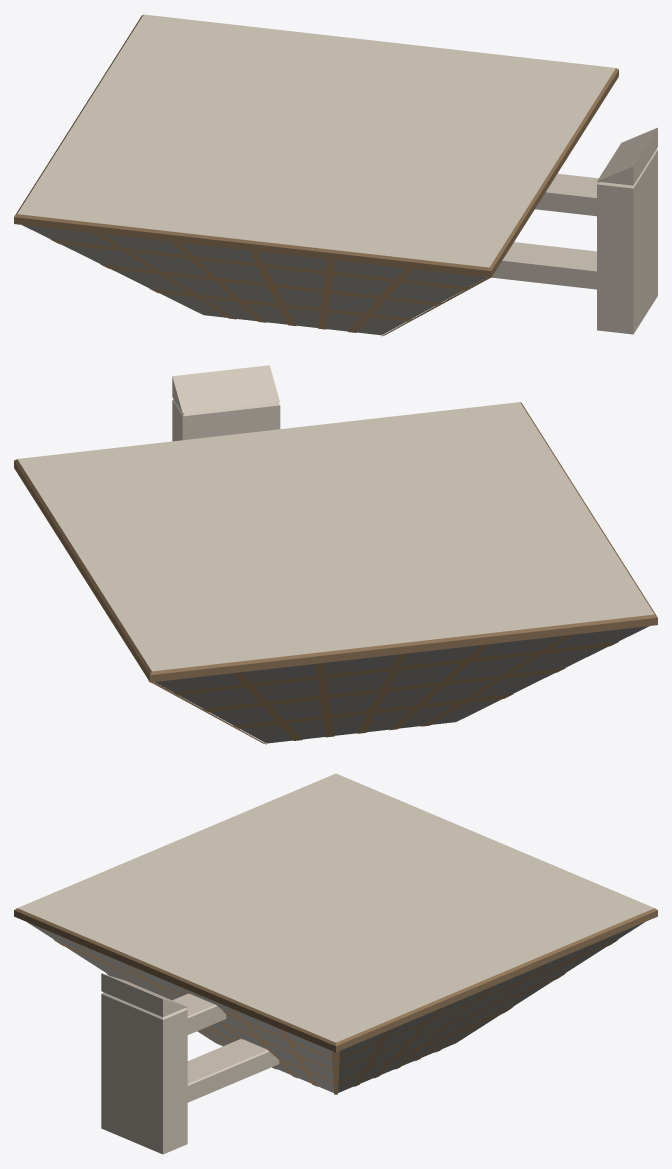
Rendered from phx-tempe-city-hall.glb.
The picture shows the model from 3 angles, top to bottom: view 1: azimuth 30°, elevation 25°; view 2: azimuth 150°, elevation 25°; view 3: azimuth 270°, elevation 25°; orthographic projection. The views are drawn at different scales.
Parts seen in each view (by area): view 1: Tempe City Hall; view 2: Tempe City Hall; view 3: Tempe City Hall.
Part boxes in pixels (box(x1,y1,x2,y2)): Tempe City Hall: box(14, 14, 657, 336); Tempe City Hall: box(14, 365, 657, 744); Tempe City Hall: box(14, 773, 657, 1154).
Bounding box in the file's own units: 55.3 × 14.7 × 55.3.
